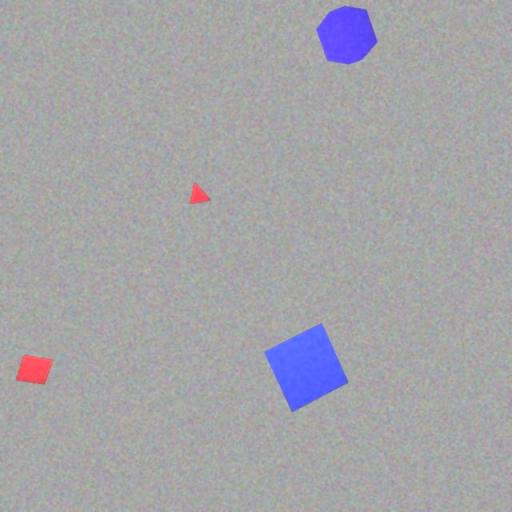BLUE_SQUARE: (263, 322, 350, 413)
RED_SQUARE: (15, 354, 54, 386)
